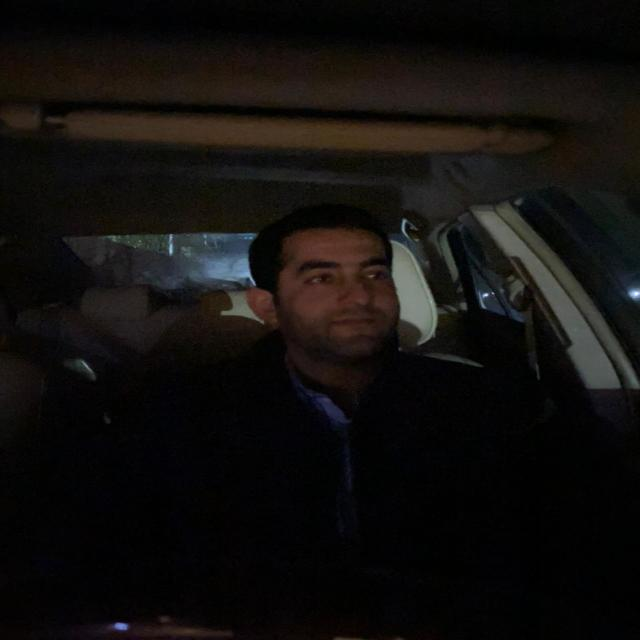person: (236, 210, 408, 366)
